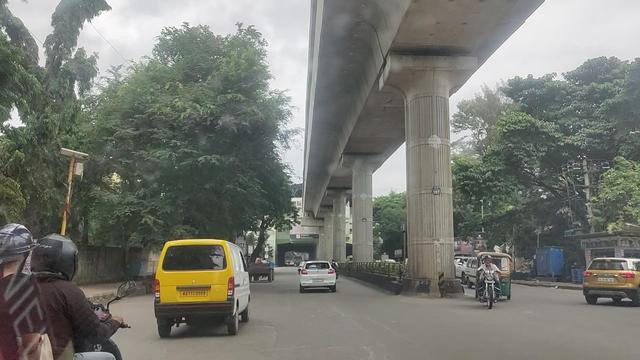LMV: (151, 238, 247, 330), (299, 262, 336, 291)
RoadDamages: (315, 301, 381, 324), (353, 325, 384, 360), (271, 344, 347, 358), (252, 318, 288, 345)
